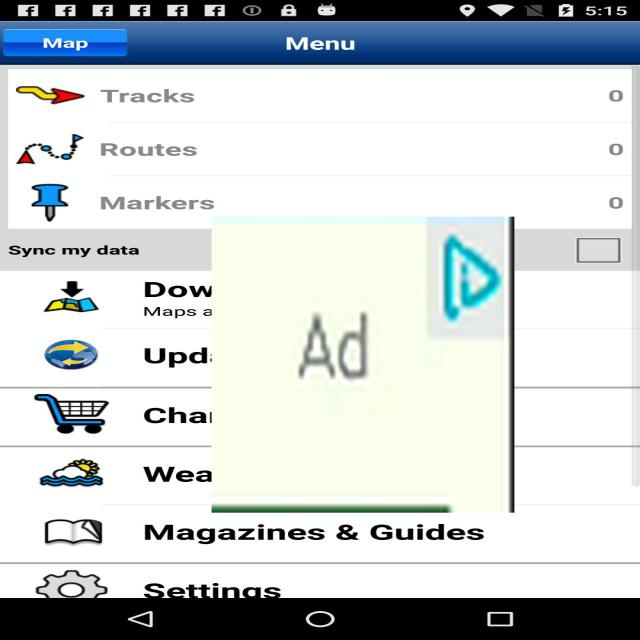sneaking: (212, 217, 514, 512)
